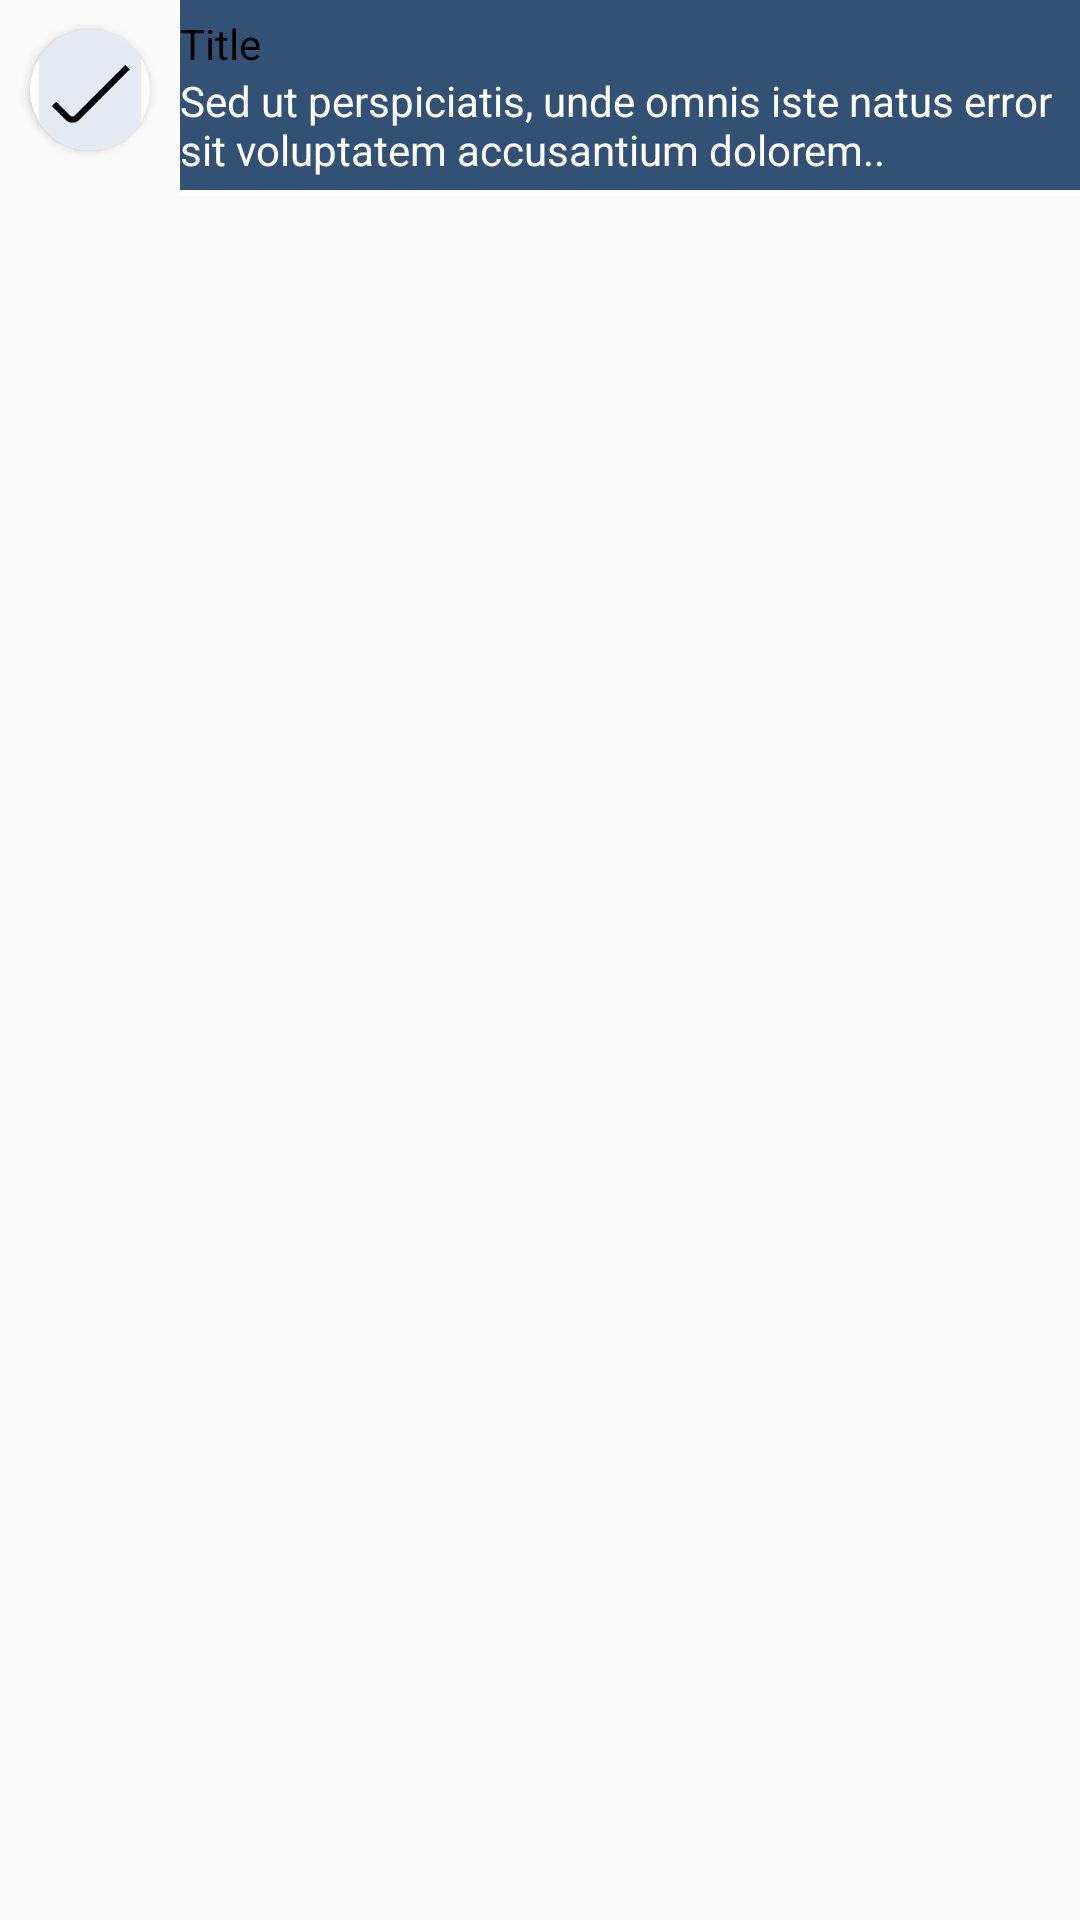

Screen size 1080x1920. Icon name, then its center in pixels as point (x, y):
ride finished sign: point (90, 90)
